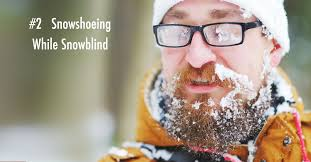Glasses: (145, 20, 263, 49)
